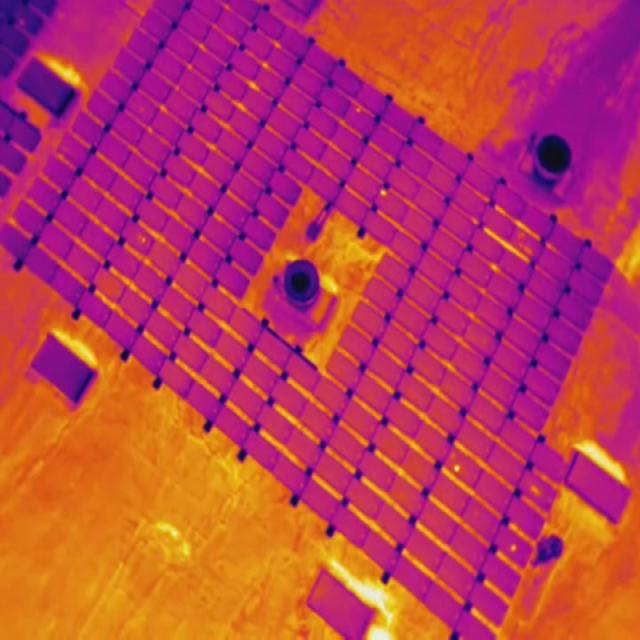Orange-Spots: (530, 484, 540, 496), (138, 234, 146, 244), (454, 463, 461, 474), (524, 246, 532, 254), (510, 544, 518, 552), (380, 189, 387, 197), (518, 231, 525, 239), (451, 453, 455, 460), (356, 108, 361, 113), (518, 242, 522, 248)
